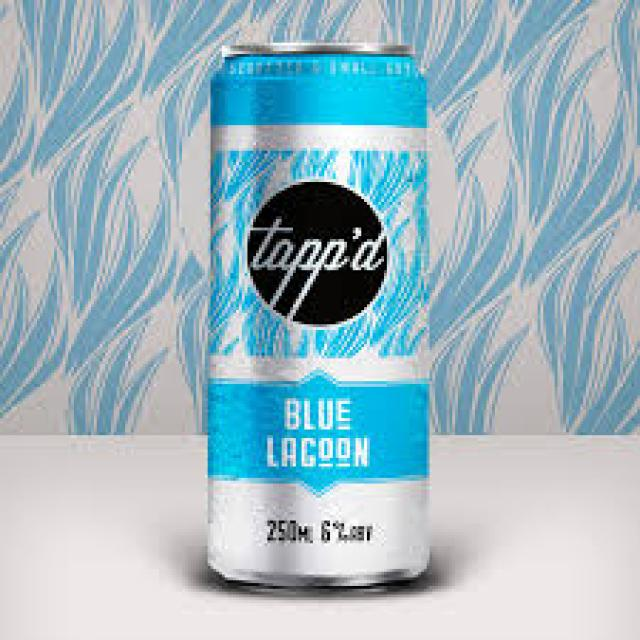Cans: (193, 28, 444, 589)
